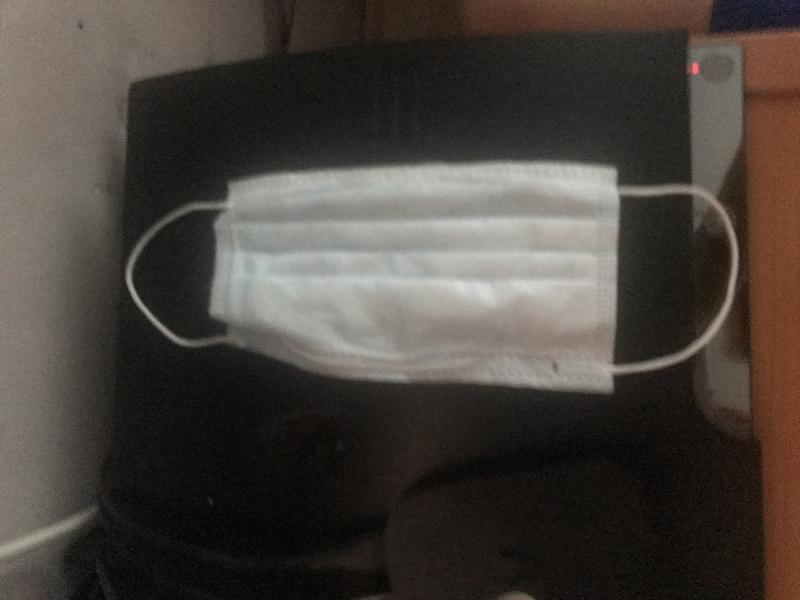medical_mask: (124, 167, 738, 395)
